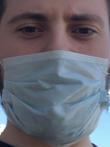with_mask: (2, 2, 110, 147)
